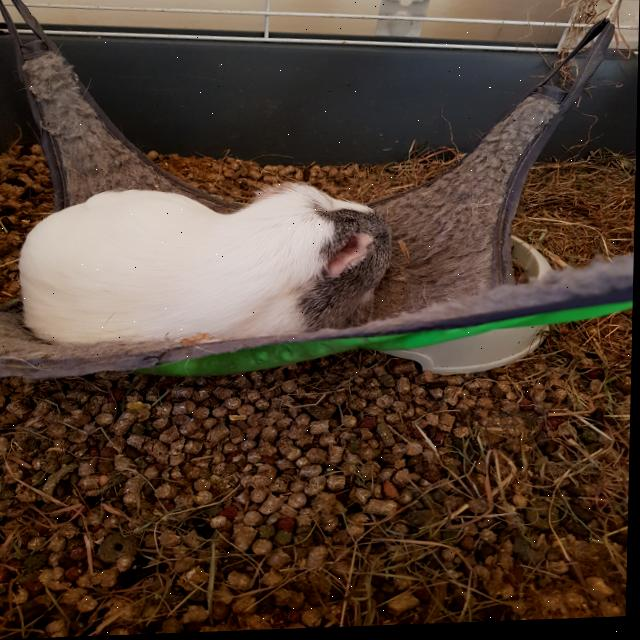guinea pig: (14, 178, 396, 352)
